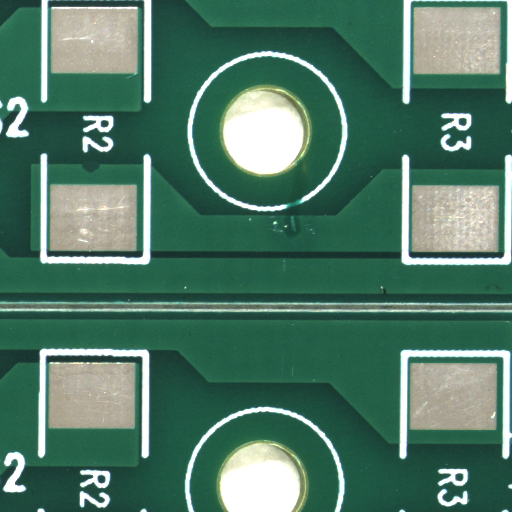Mouse_bite: (90, 166, 109, 177)
